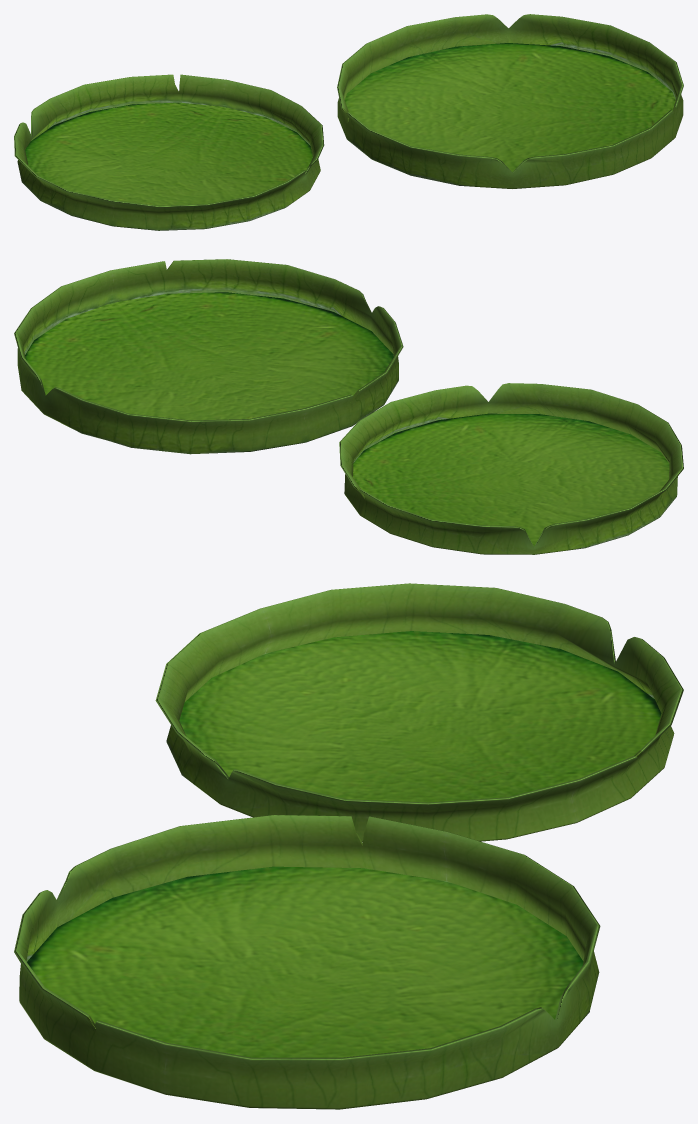
File: SSZW_wanglian.fbx
The picture shows the model from 3 angles, top to bottom: view 1: azimuth 30°, elevation 25°; view 2: azimuth 150°, elevation 25°; view 3: azimuth 270°, elevation 25°; orthographic projection. The views are drawn at different scales.
Parts seen in each view (by area): view 1: SSZW_wanglian; view 2: SSZW_wanglian; view 3: SSZW_wanglian.
Part boxes in pixels (box(x1,y1,x2,y2)): SSZW_wanglian: box(14, 14, 683, 230); SSZW_wanglian: box(14, 259, 683, 554); SSZW_wanglian: box(14, 583, 683, 1109).
Size of the model in its own units: 2.38 by 0.1209 by 1.39.
Materials: 1 (1 with a texture image).
